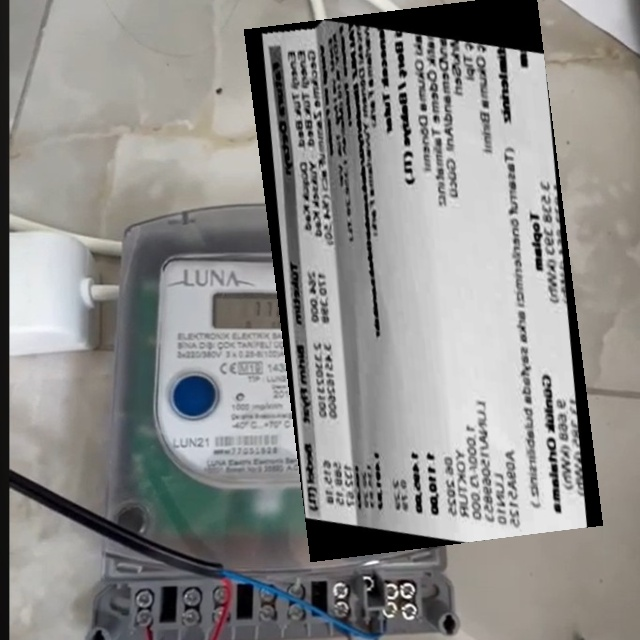electricity-bill: (243, 0, 602, 561)
